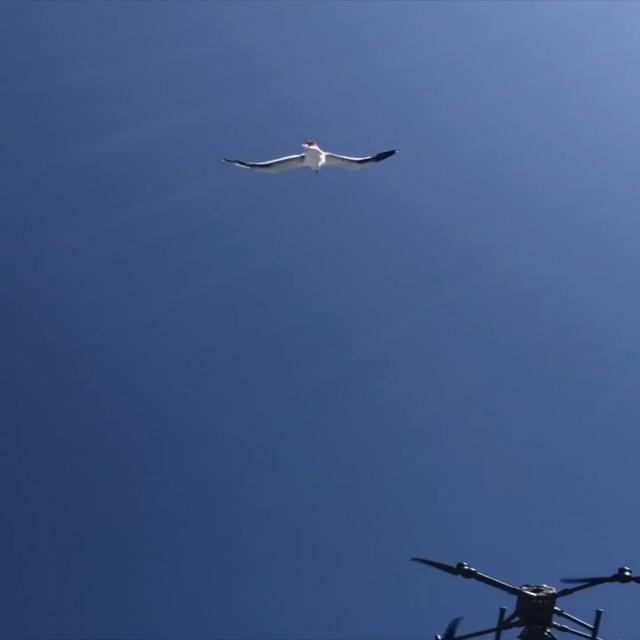bird: (218, 140, 399, 174)
drone: (407, 556, 638, 639)
